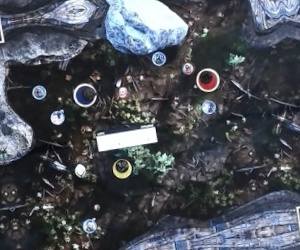blue: (73, 82, 100, 108)
lime_green_violet: (106, 153, 133, 180)
red: (195, 67, 222, 93)
